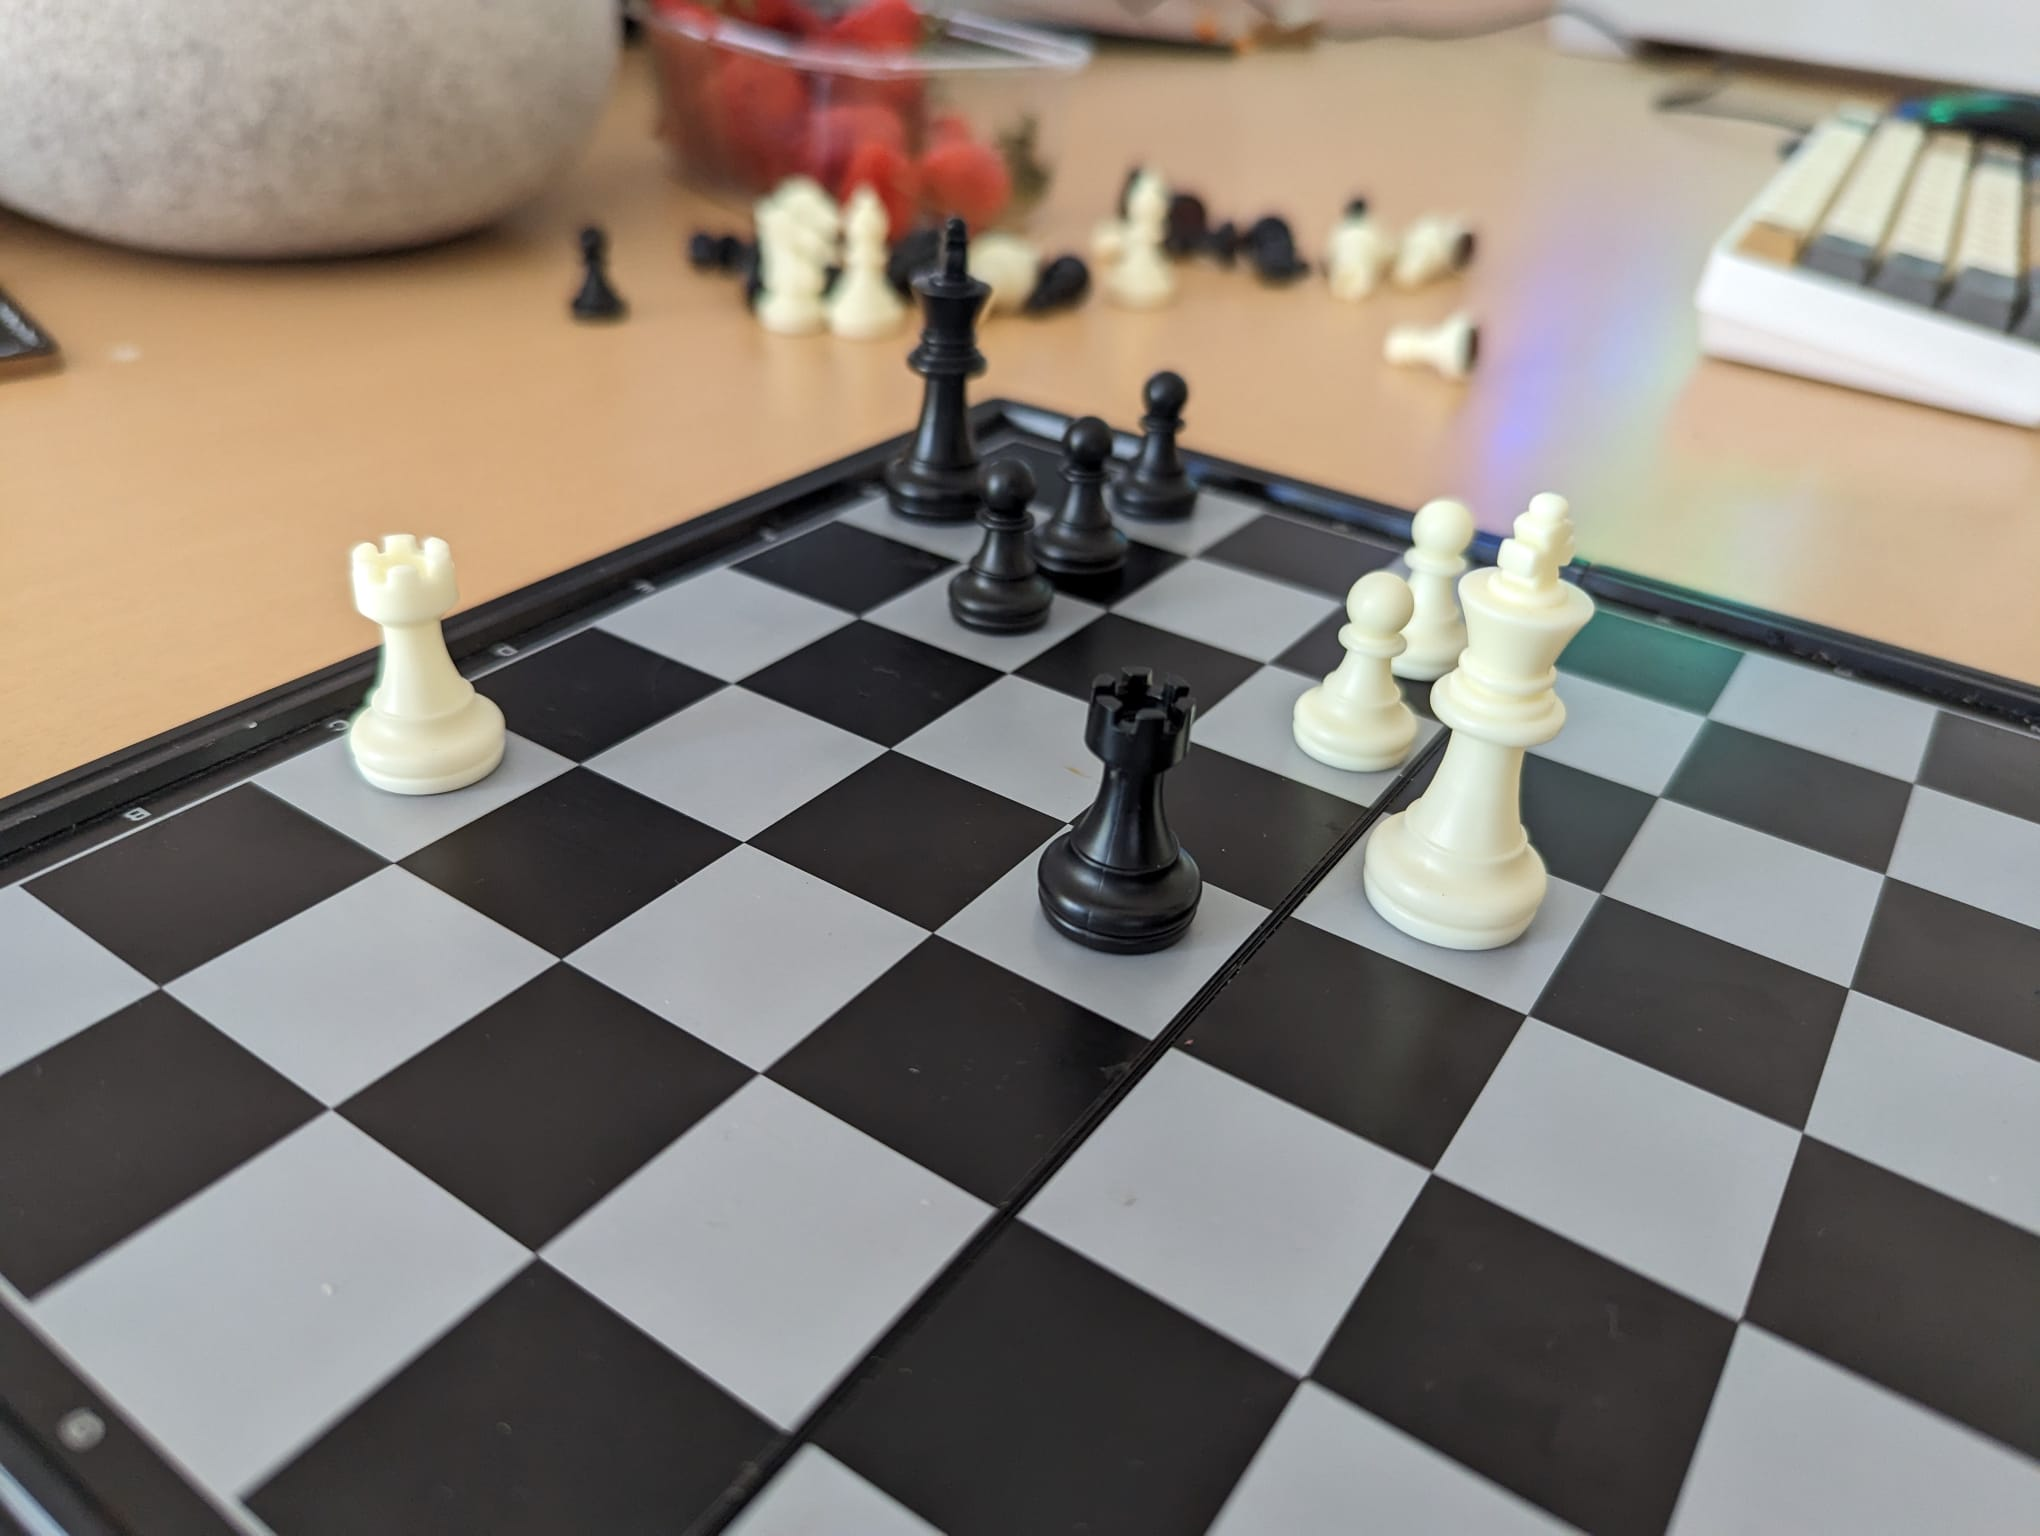BK: (887, 211, 1000, 534)
BP: (940, 450, 1056, 639), (1027, 411, 1143, 587), (1118, 369, 1206, 529)
BR: (1037, 665, 1201, 957)
WK: (1358, 486, 1595, 957)
WP: (1295, 570, 1422, 771), (1385, 503, 1474, 681)
WR: (340, 526, 510, 799)
